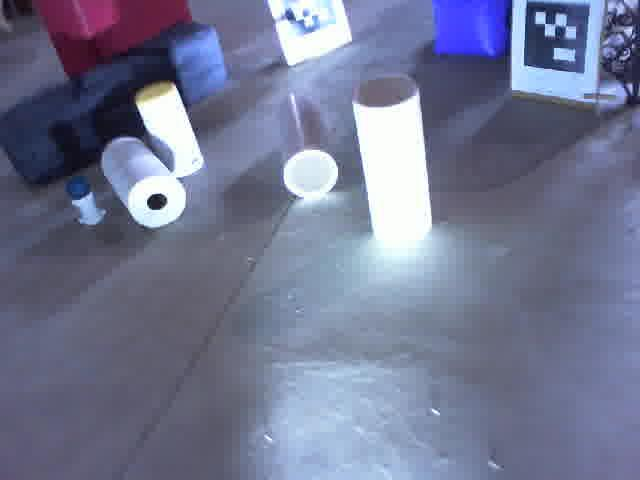coral: (350, 67, 439, 258), (271, 79, 341, 207), (134, 72, 205, 185)
